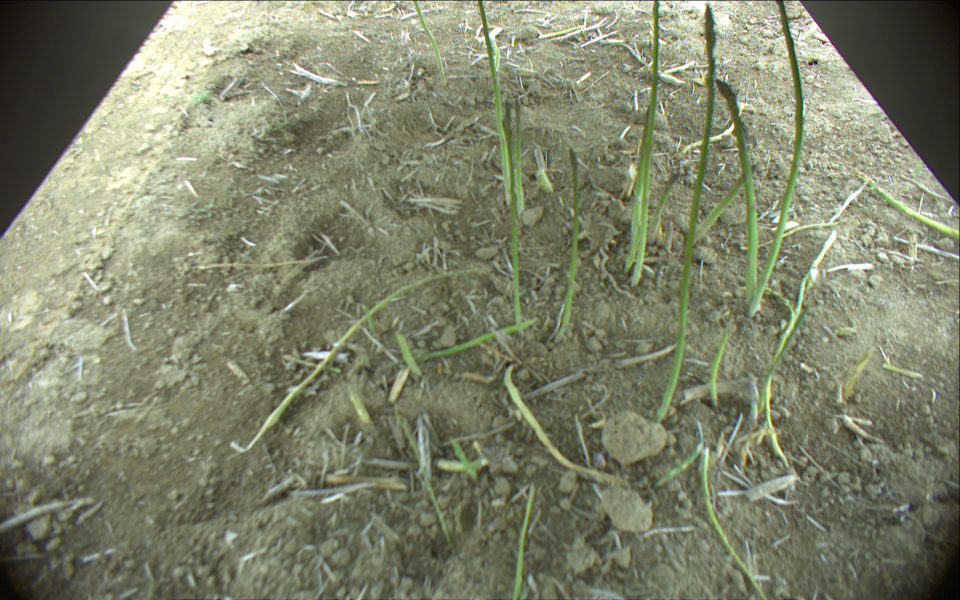aspa: (240, 261, 489, 452), (654, 3, 717, 421), (749, 1, 806, 315), (504, 374, 620, 485), (712, 79, 759, 300), (703, 449, 771, 600), (630, 1, 661, 284), (474, 1, 511, 203), (858, 172, 960, 240), (690, 161, 755, 252), (625, 102, 653, 276), (421, 321, 539, 360), (407, 1, 446, 82), (648, 169, 685, 247), (558, 150, 572, 348), (512, 487, 536, 600), (656, 445, 700, 486), (708, 332, 731, 404), (515, 90, 526, 213), (394, 334, 423, 376), (536, 17, 591, 36)
